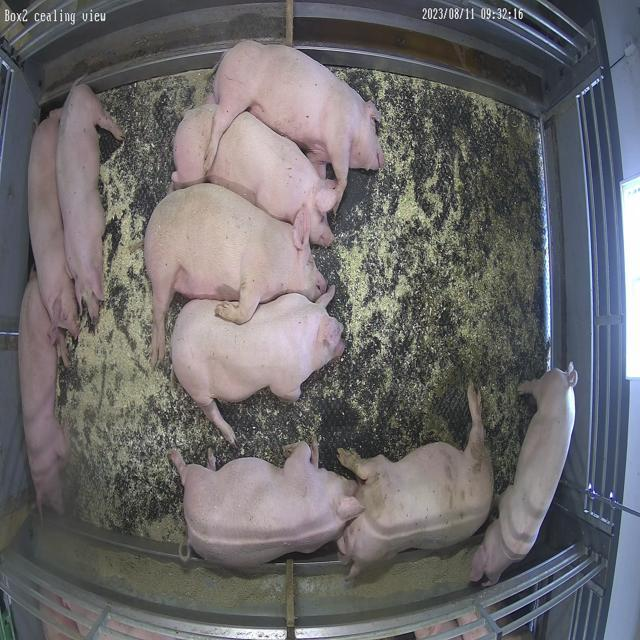Dirt: (420, 337, 546, 454), (451, 102, 543, 259)
Pig: (144, 183, 327, 364), (338, 385, 494, 578), (212, 40, 384, 210), (171, 286, 343, 444), (169, 443, 364, 568), (472, 364, 579, 586), (172, 104, 337, 246), (56, 84, 123, 320), (17, 271, 68, 512), (27, 108, 78, 336)
